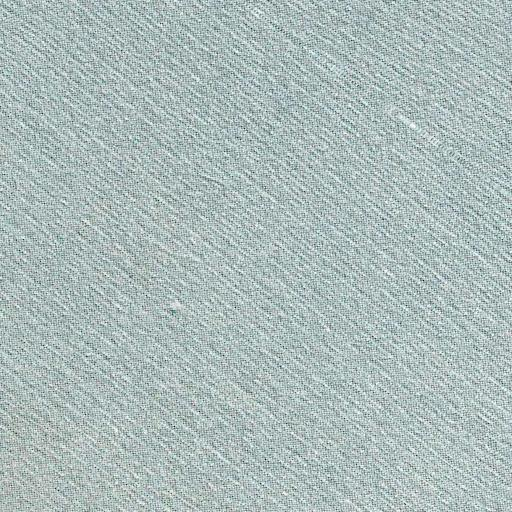knot: (163, 287, 191, 322)
